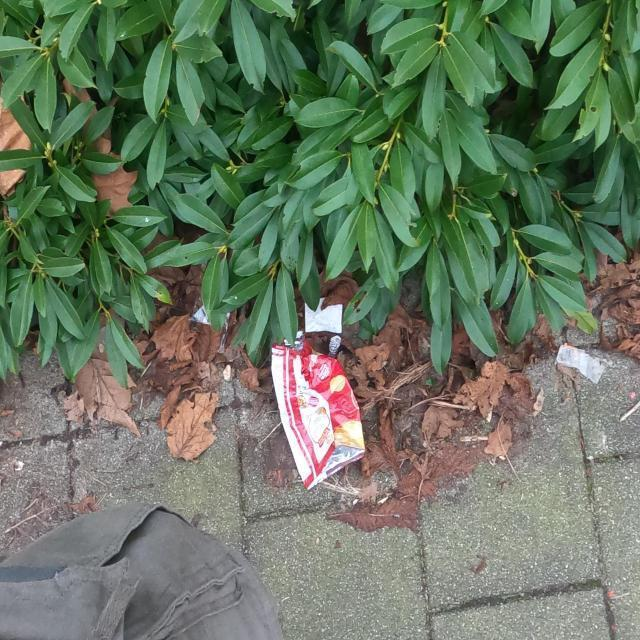Plastic: (270, 335, 366, 492), (304, 297, 343, 334)
